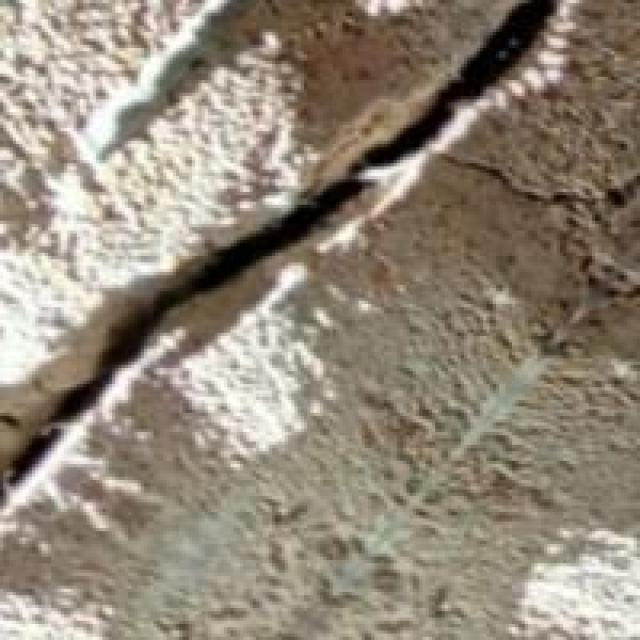Crack: (5, 0, 574, 541)
